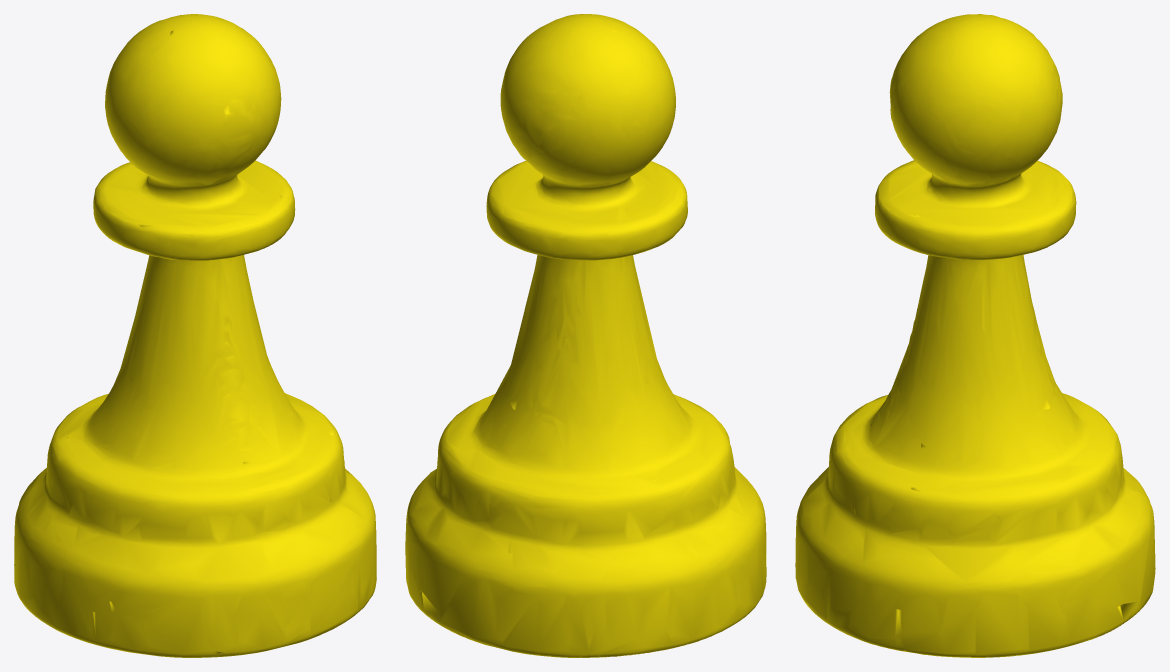
The model's file is fichaamarilla.glb.
3 renders of one model, left to right at view 1: azimuth 30°, elevation 25°; view 2: azimuth 150°, elevation 25°; view 3: azimuth 270°, elevation 25°, orthographic.
Parts seen in each view (by area): view 1: Mesh1.0; view 2: Mesh1.0; view 3: Mesh1.0.
Part boxes in pixels (x1,y1,x2,y2): Mesh1.0: [14, 14, 376, 657]; Mesh1.0: [405, 14, 766, 657]; Mesh1.0: [795, 14, 1155, 657].
Bounding box in the file's own units: 0.4603 × 0.7902 × 0.458.
